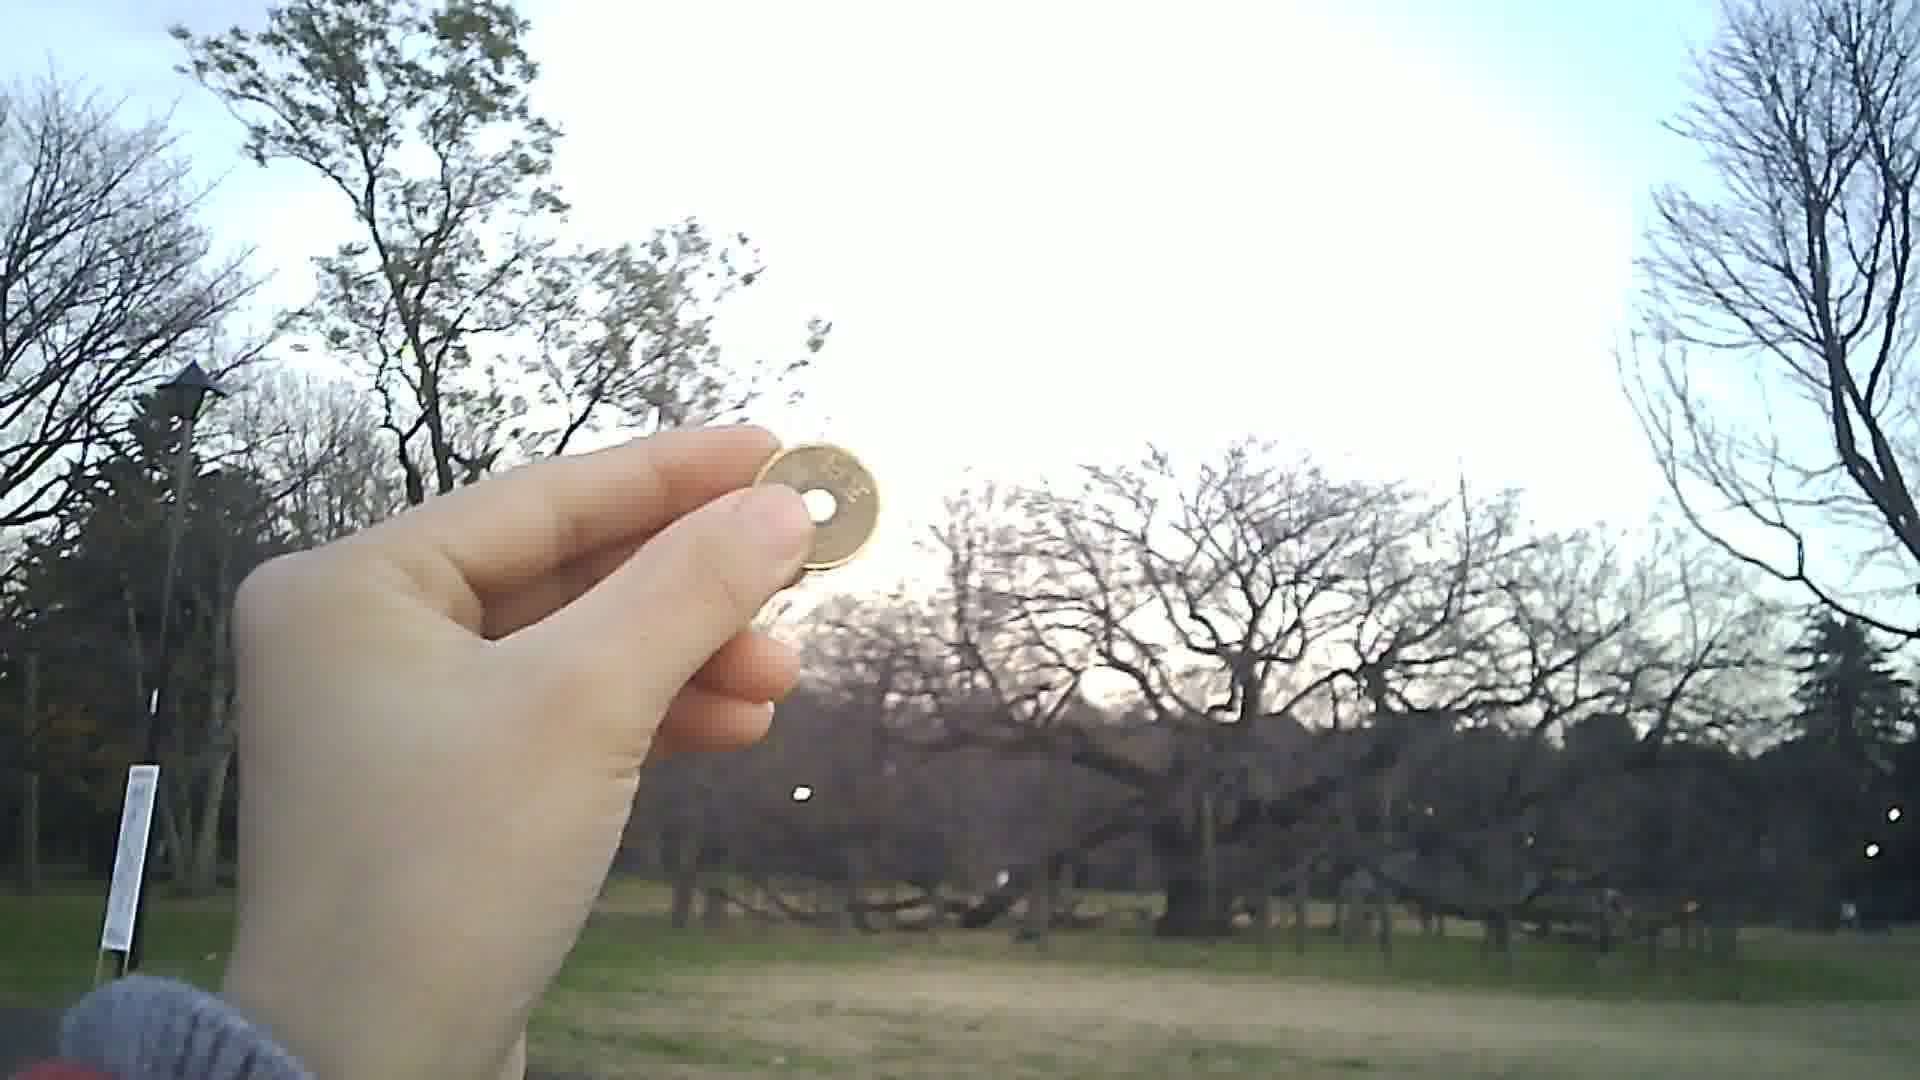5 Yen: (744, 438, 887, 572)
